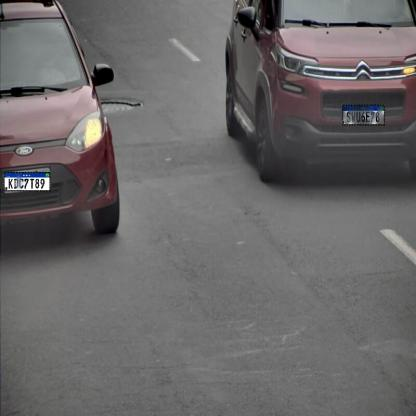PlacaM: (342, 104, 385, 126), (4, 172, 51, 191)
